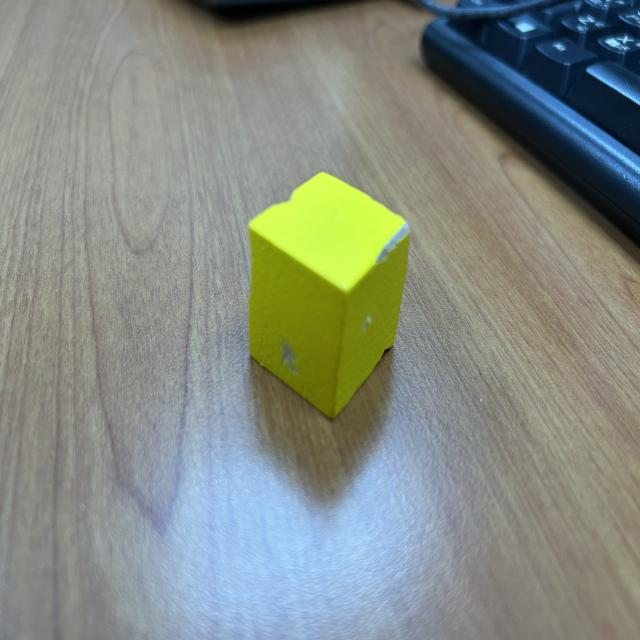broken: (247, 170, 411, 421)
